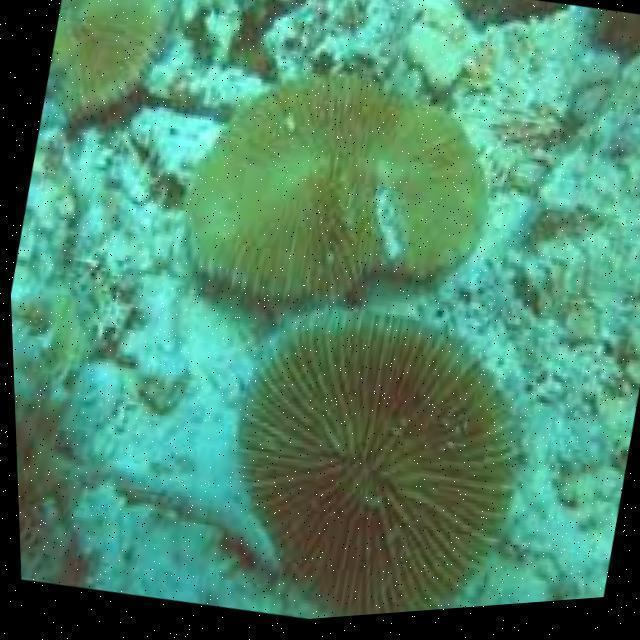Healthy Coral: (176, 268, 552, 630), (164, 20, 521, 352), (47, 0, 197, 120)
